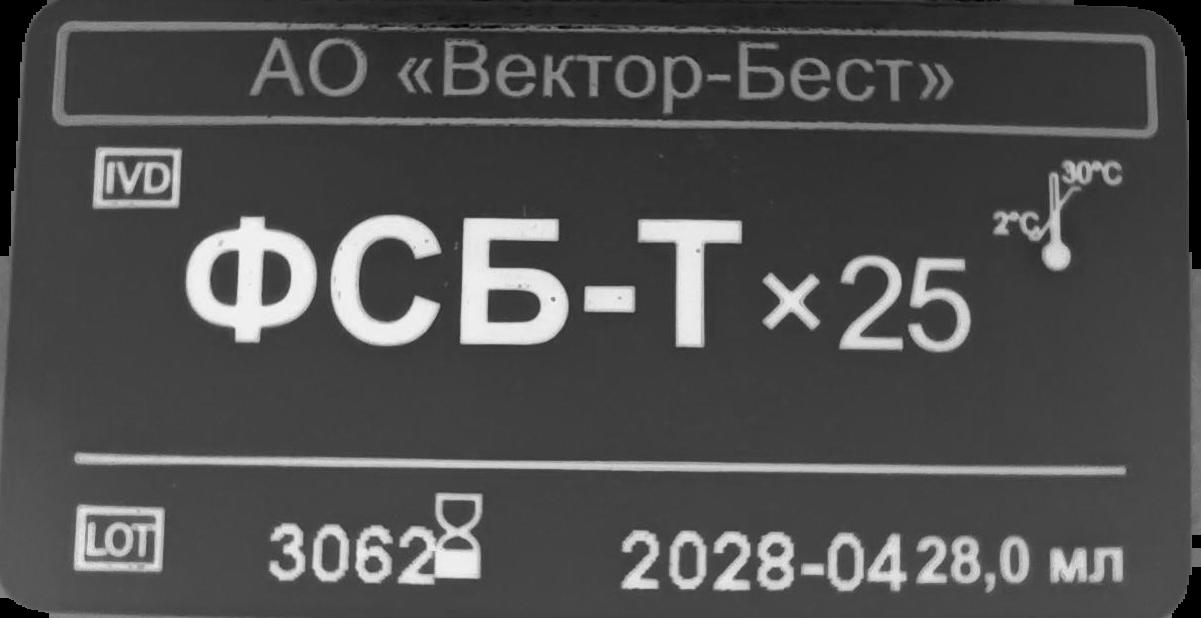something: (991, 155, 1127, 278), (71, 503, 172, 576), (90, 145, 187, 209), (434, 493, 484, 584)
text: (169, 210, 971, 369), (235, 28, 961, 126), (621, 523, 906, 596), (912, 533, 1131, 597), (264, 515, 437, 593)
